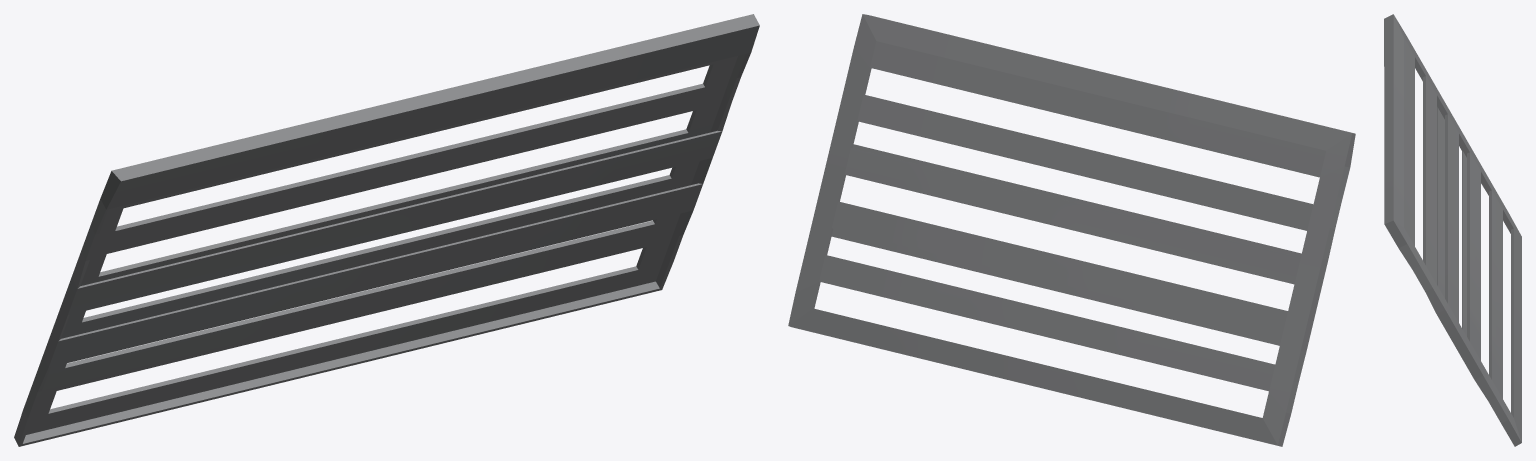
Rendered from rejilla.fbx.
The picture shows the model from 3 angles, left to right: view 1: azimuth 30°, elevation 25°; view 2: azimuth 150°, elevation 25°; view 3: azimuth 270°, elevation 25°; orthographic projection. The views are drawn at different scales.
Parts seen in each view (by area): view 1: Pared con rejilla.001; view 2: Pared con rejilla.001; view 3: Pared con rejilla.001.
Part boxes in pixels (<box>): Pared con rejilla.001: <box>14,14,759,446</box>; Pared con rejilla.001: <box>788,14,1355,446</box>; Pared con rejilla.001: <box>1384,14,1521,446</box>.
Bounding box in the file's own units: 152 × 77.27 × 42.63.
Materials: 1 (1 with a texture image).
